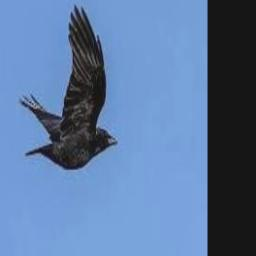Crow: (19, 4, 117, 168)
